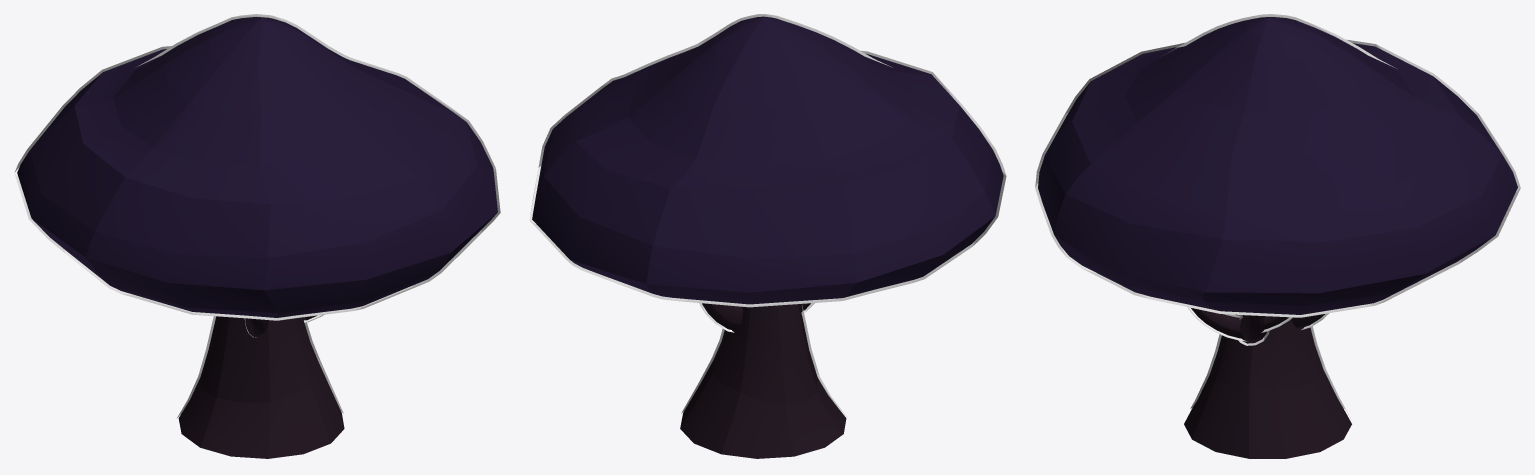
Rendered from stolasTree2.glb.
The picture shows the model from 3 angles, left to right: view 1: azimuth 30°, elevation 25°; view 2: azimuth 150°, elevation 25°; view 3: azimuth 270°, elevation 25°; orthographic projection.
Parts seen in each view (by area): view 1: stolasTree2_LOD0; view 2: stolasTree2_LOD0; view 3: stolasTree2_LOD0.
Boxes of the visible parts, x1,y1,x2,y2 form: stolasTree2_LOD0: (14,14,500,458); stolasTree2_LOD0: (529,14,1006,458); stolasTree2_LOD0: (1035,14,1520,458).
Size of what is drawn, in the model's own units: 17.72 by 16.88 by 18.12.
2 materials, 1 textured.
